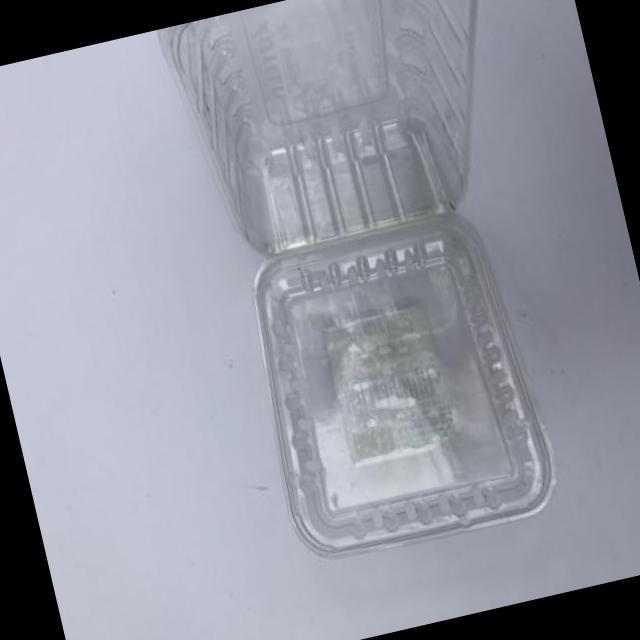Trash: (150, 0, 605, 582)
